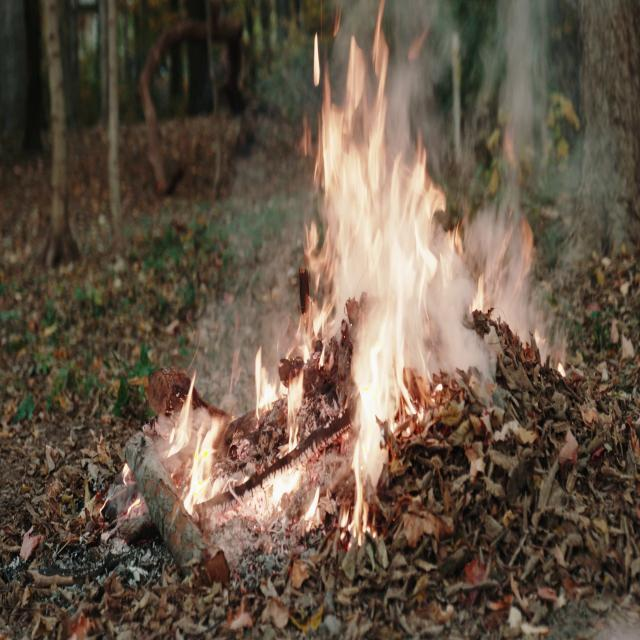Fire: (250, 7, 554, 513), (156, 356, 226, 534)
